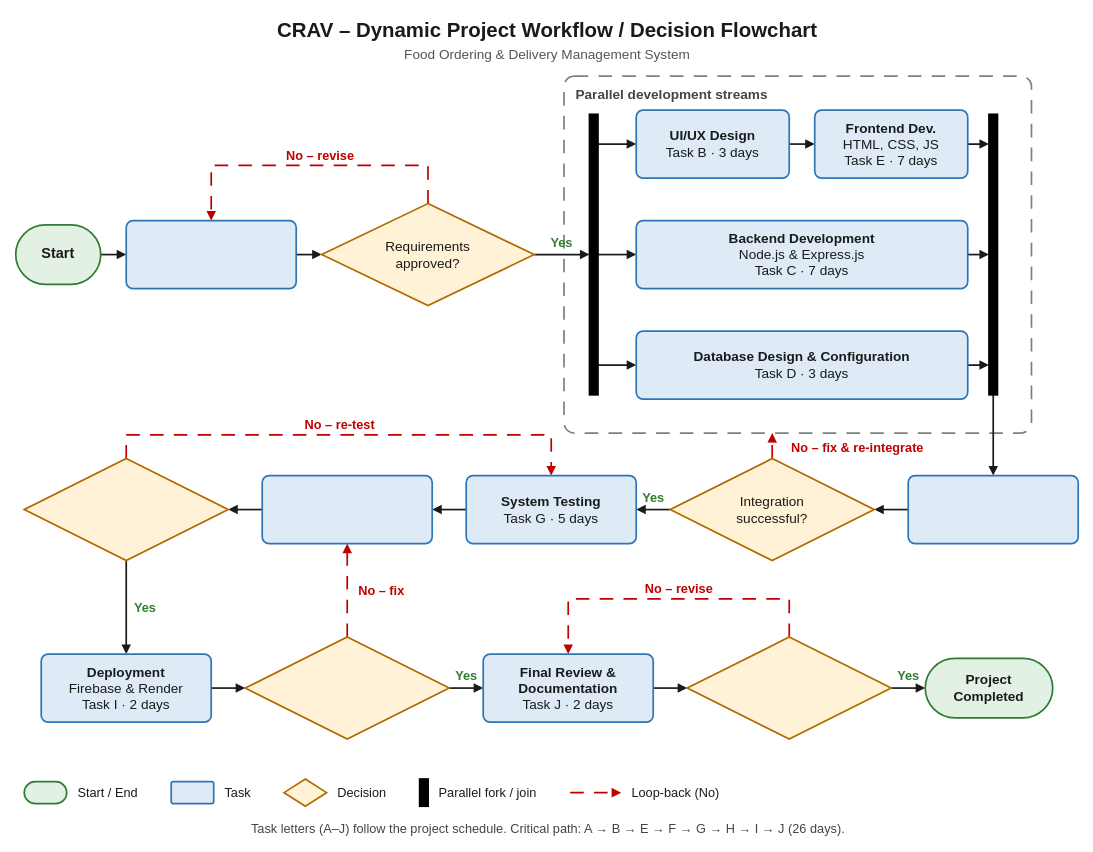
This 1093x852 diagram has some shape labels left out. The shapes that lost their labels are listed below. From the top down, each one's centre as x and y in pixels, then its label:
At [211,254]: "Project Planning & Requirement Analysis Task A · 2 days".
At [126,509]: "All test cases passed?".
At [347,509]: "Bug Fixing & Optimization Task H · 2 days".
At [993,509]: "Frontend & Backend Integration Task F · 3 days".
At [347,688]: "Deployment verified?".
At [789,688]: "Review approved?".
